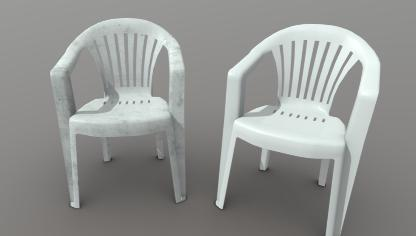chair: (214, 20, 384, 234), (45, 13, 192, 213)
